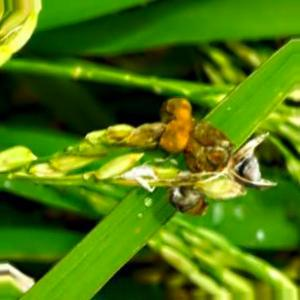Leaf_Scald: (155, 94, 200, 156)
